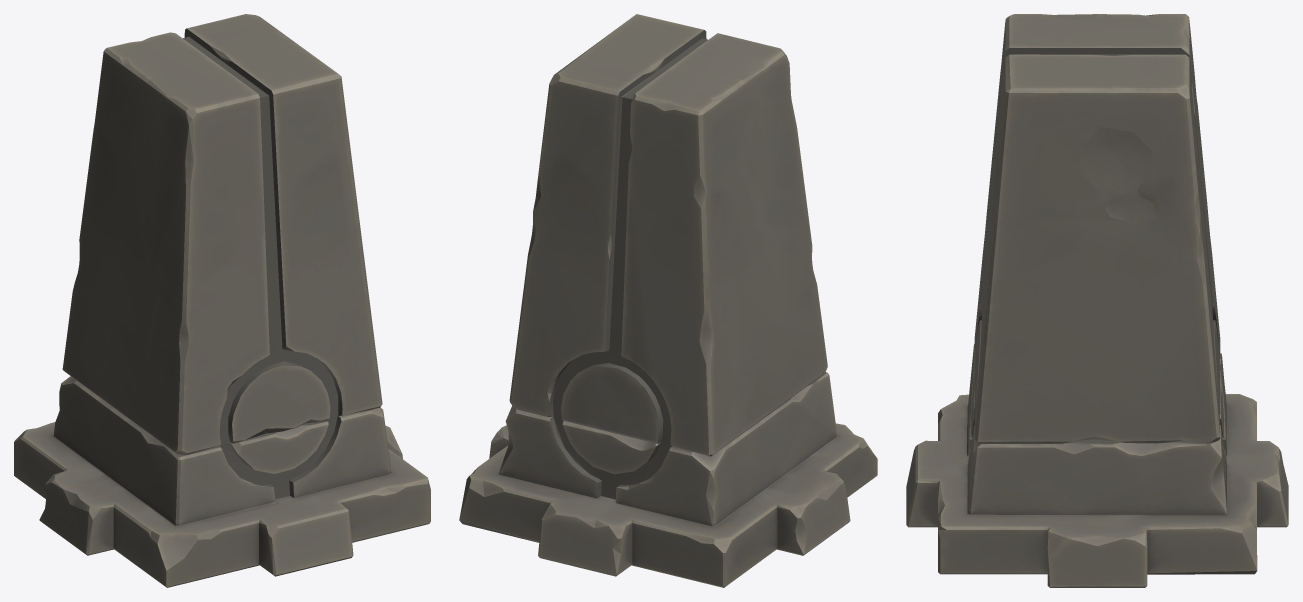
The model's file is HIT_SWITCH_Timed.fbx.
3 renders of one model, left to right at view 1: azimuth 30°, elevation 25°; view 2: azimuth 150°, elevation 25°; view 3: azimuth 270°, elevation 25°, orthographic. The views are drawn at different scales.
Parts seen in each view (by area): view 1: RotSwitchTopVar1, HIT_SWITCH_Timed; view 2: RotSwitchTopVar1, HIT_SWITCH_Timed; view 3: RotSwitchTopVar1, HIT_SWITCH_Timed.
Part boxes in pixels (box(x1,y1,x2,y2)): RotSwitchTopVar1: box(62, 14, 382, 454); HIT_SWITCH_Timed: box(14, 376, 430, 587); RotSwitchTopVar1: box(509, 14, 827, 456); HIT_SWITCH_Timed: box(459, 372, 877, 587); RotSwitchTopVar1: box(974, 14, 1220, 443); HIT_SWITCH_Timed: box(906, 344, 1288, 587).
Bounding box in the file's own units: 2.35 × 3.1 × 2.35.
